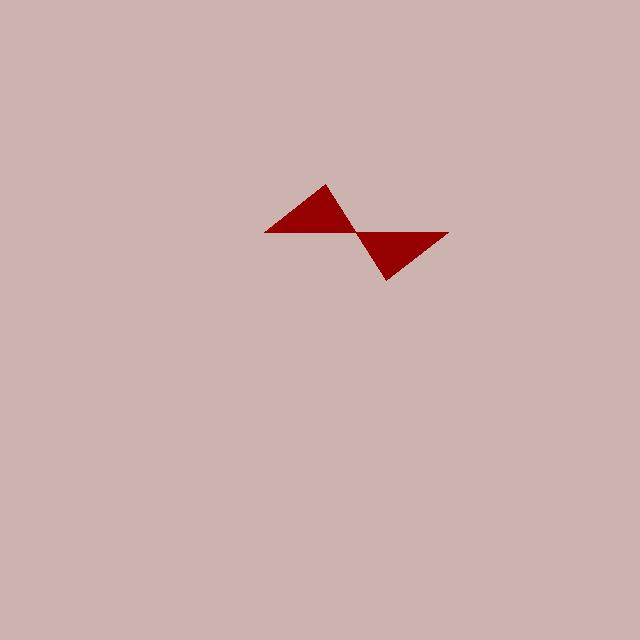laceration: (264, 184, 448, 280)
